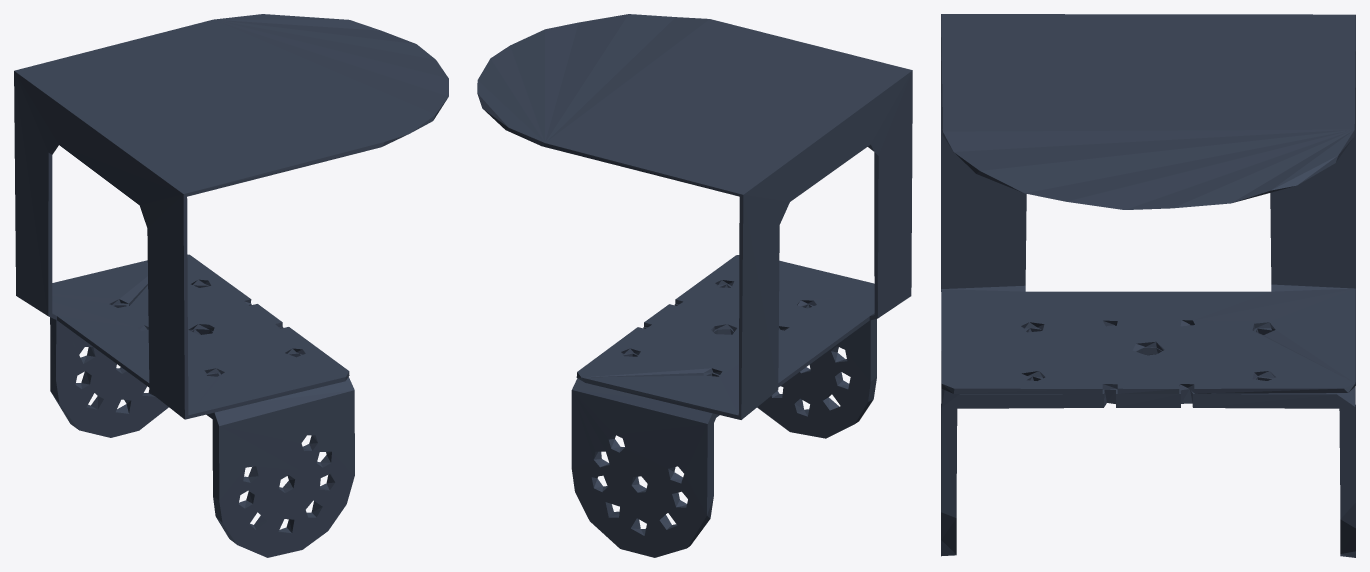
The model's file is camera_mount.dae.
3 renders of one model, left to right at view 1: azimuth 30°, elevation 25°; view 2: azimuth 150°, elevation 25°; view 3: azimuth 270°, elevation 25°, orthographic. The views are drawn at different scales.
Parts seen in each view (by area): view 1: Camera_Mount; view 2: Camera_Mount; view 3: Camera_Mount.
Part boxes in pixels (box(x1,y1,x2,y2)): Camera_Mount: box(14, 14, 448, 557); Camera_Mount: box(477, 14, 912, 557); Camera_Mount: box(941, 14, 1355, 557).
Size of the model in its own units: 0.1209 by 0.108 by 0.1364.
